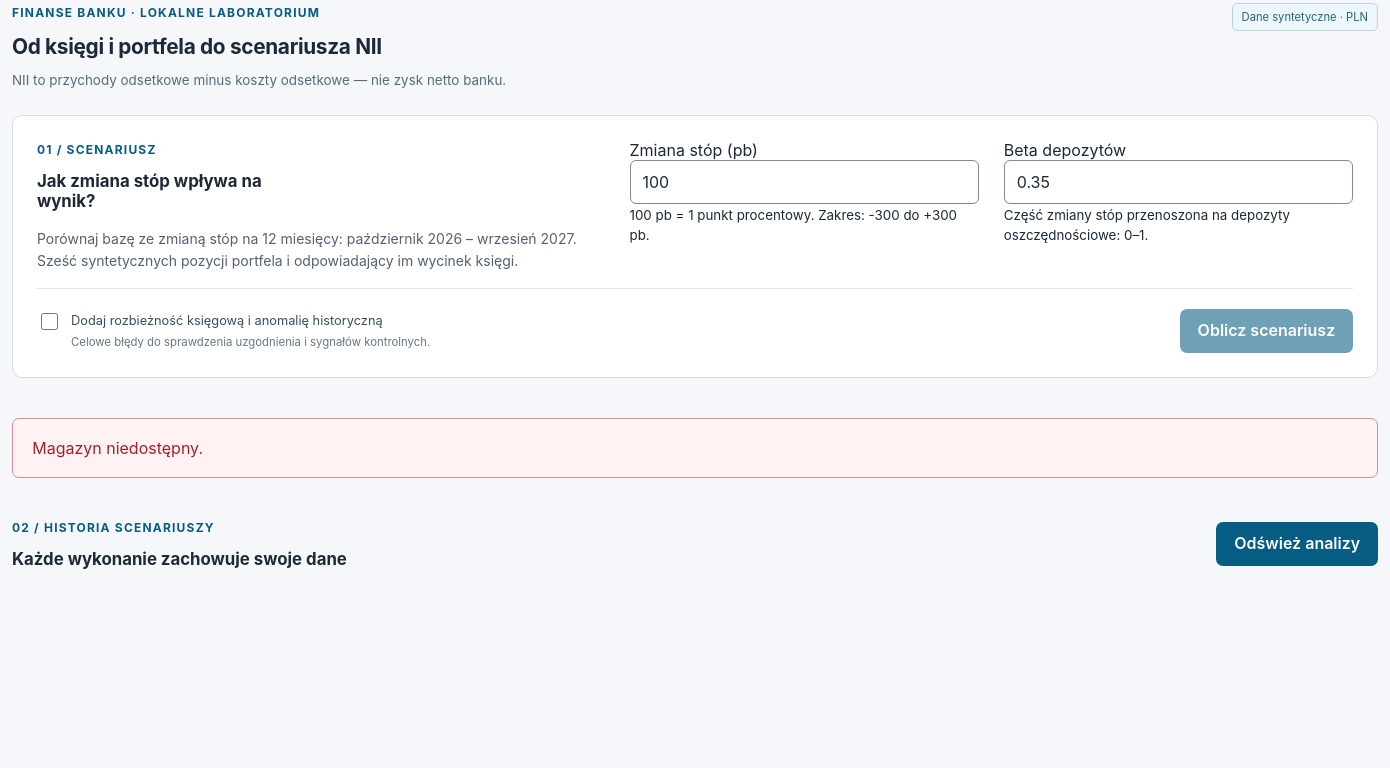
shows load and shared-run errors and lets the user retry reading
Check: the message reads "Magazyn niedostępny.", box [32,438,203,458]
Check: the button "Oblicz scenariusz" is disabled, box [1180,309,1353,353]
Click the button "Odśwież analizy".
click(1297, 544)  # box [1216,522,1378,566]
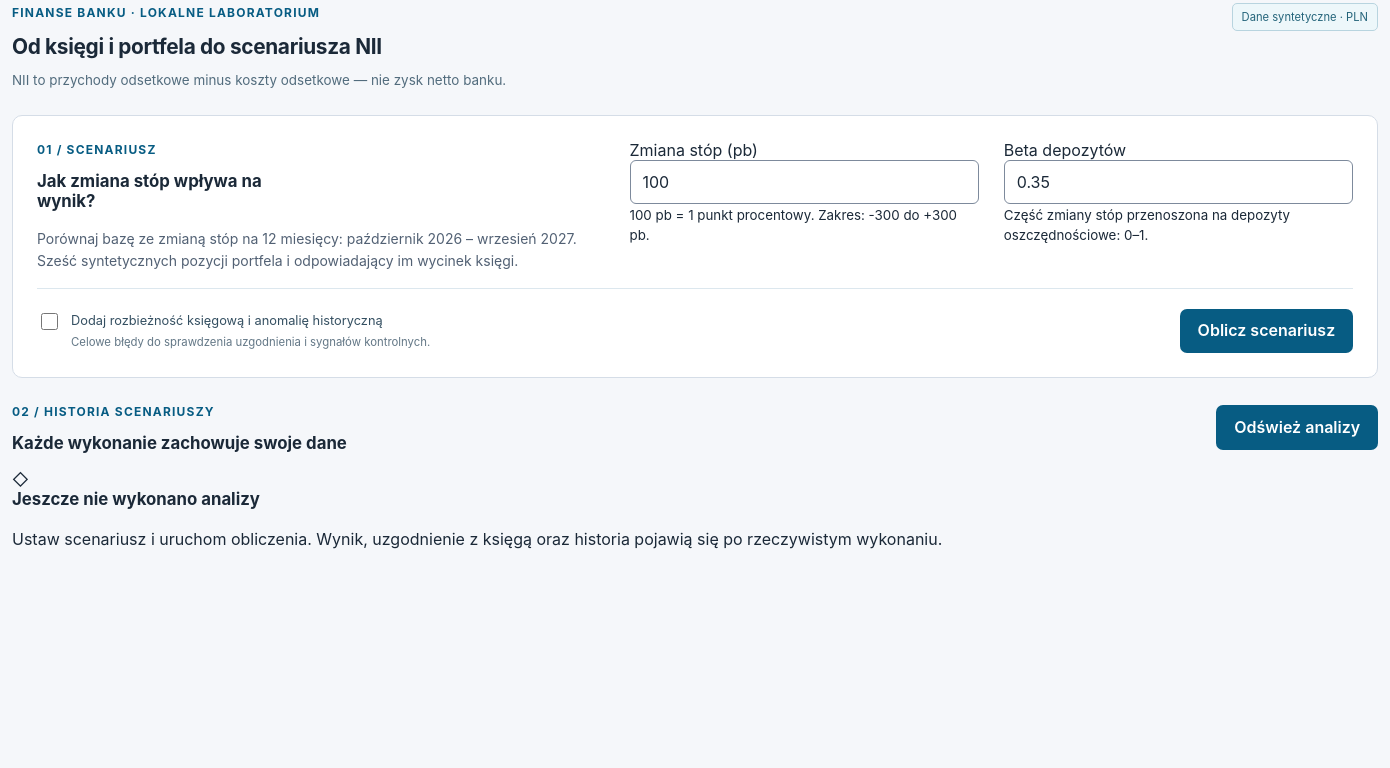
Check: the heading "Jeszcze nie wykonano analizy" is shown, box [12,489,260,509]
Click the button "Oblicz scenariusz".
click(1266, 331)  # box [1180,309,1353,353]
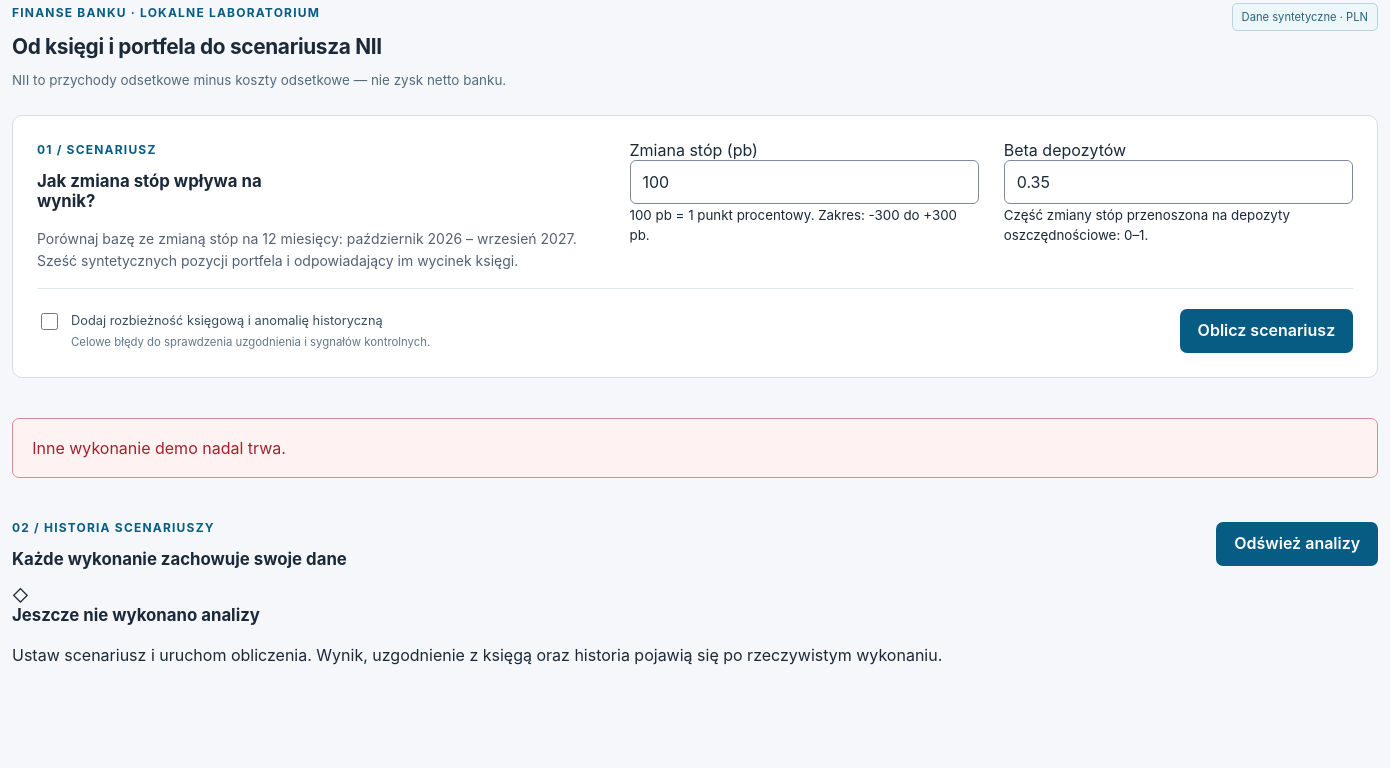
Check: the message reads "Inne wykonanie demo nadal trwa.", box [32,438,286,458]
